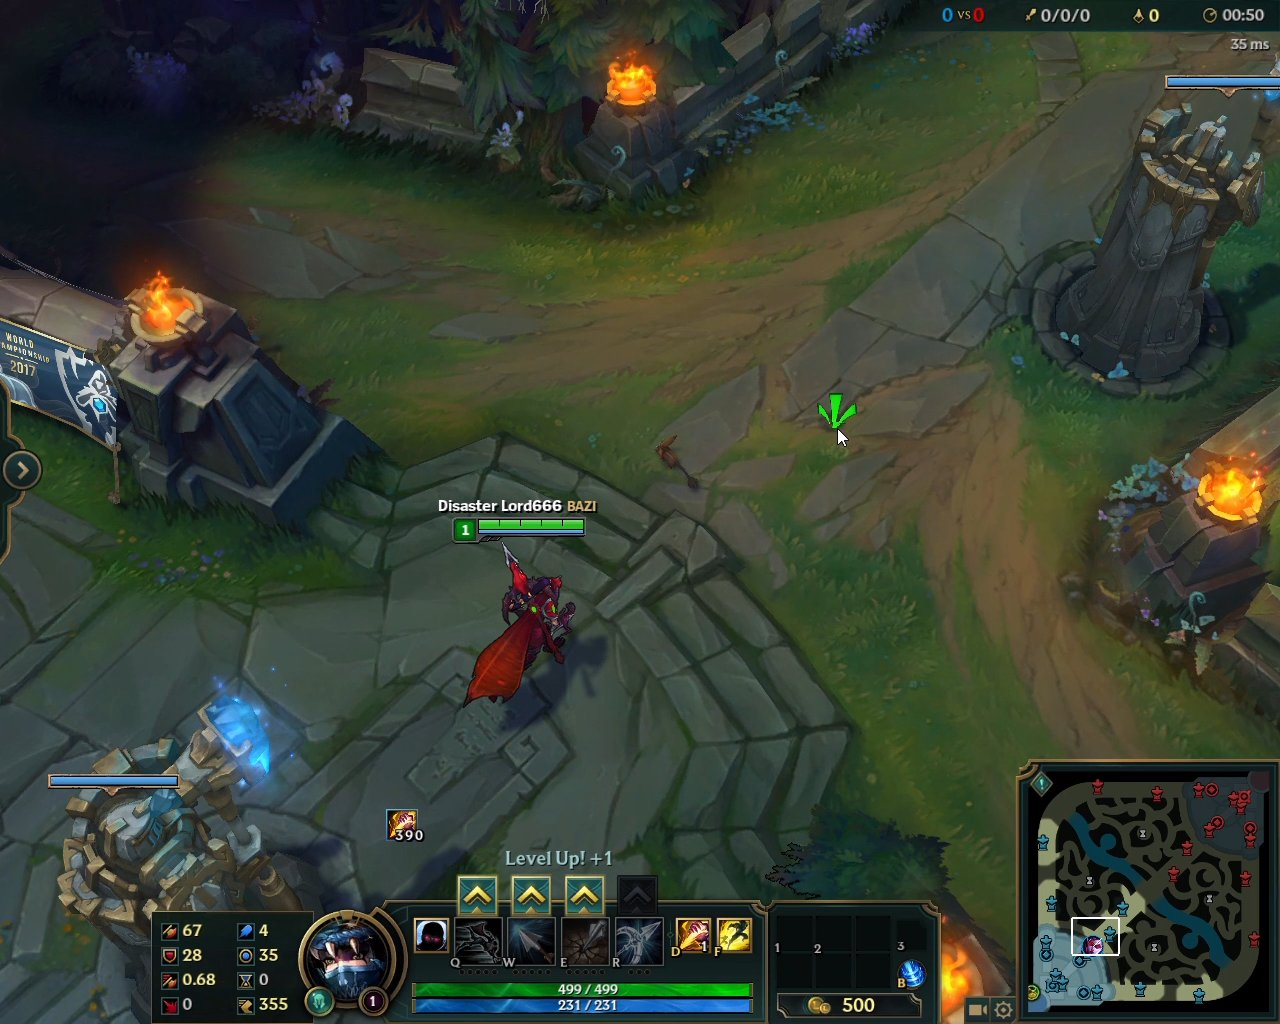Vayne: (453, 538, 584, 714)
